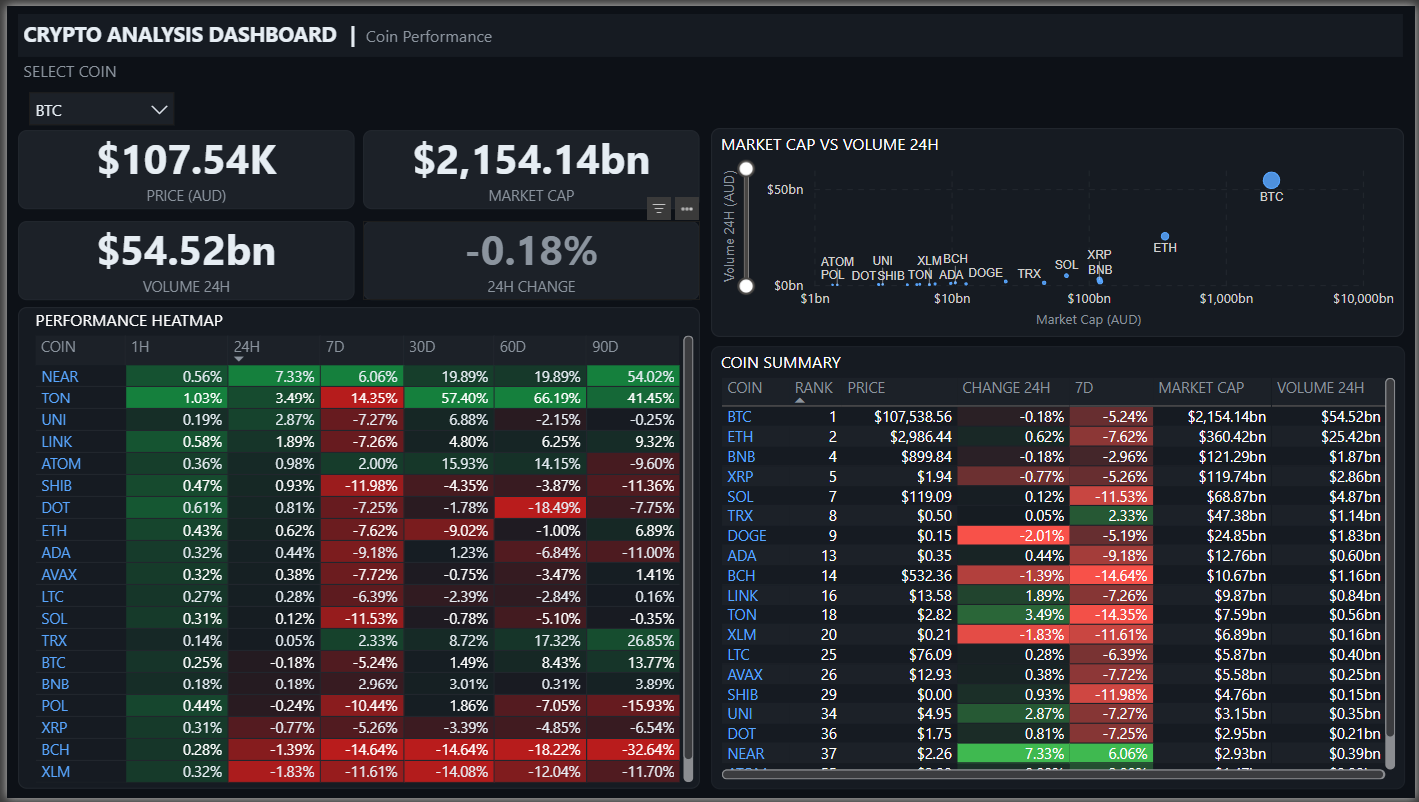

Layout of this report page (visuals, bound fields, positions):
{"tool":"powerbi","page":{"name":"Coin Performance","canvas":[1280,720],"ordinal":1},"visuals":[{"type":"slicer","title":"SELECT COIN","fields":{"Values":["dim_coin.symbol"]},"box":[10,46,152,64],"z":0},{"type":"card","fields":{"Values":["_Measures.Latest Price"]},"box":[10,113,306,72],"z":2000},{"type":"card","fields":{"Values":["_Measures.Latest Market Cap"]},"box":[324,113,306,72],"z":3000},{"type":"card","fields":{"Values":["_Measures.Latest Volume 24H"]},"box":[10,195,306,72],"z":4000},{"type":"card","fields":{"Values":["_Measures.Latest 24H Change"]},"box":[324,195,306,72],"z":5000},{"type":"pivotTable","title":"PERFORMANCE HEATMAP","fields":{"Values":["_Measures.Latest 1H Change","_Measures.Latest 24H Change","_Measures.Latest 7D Change","_Measures.Latest 30D Change","_Measures.Latest 60D Change","_Measures.Latest 90D Change"],"Rows":["dim_coin.symbol"]},"box":[10,274,620,438],"z":6000},{"type":"scatterChart","title":"MARKET CAP VS VOLUME 24H","fields":{"X":["_Measures.Latest Market Cap"],"Y":["_Measures.Latest Volume 24H"],"Size":["_Measures.Latest Market Cap"],"Category":["dim_coin.symbol"]},"box":[640,111.3,629.6,189.8],"z":7000},{"type":"tableEx","title":"COIN SUMMARY","fields":{"Values":["dim_coin.symbol","_Measures.Latest Rank","_Measures.Latest Price","_Measures.Latest 24H Change","_Measures.Latest 7D Change","_Measures.Latest Market Cap","_Measures.Latest Volume 24H"]},"box":[640,309,631,403],"z":8000},{"type":"textbox","box":[10,7,1259,39],"z":9000}]}

Visuals, with their boxes in screenshot pixels (x1, y1, x2, y2), scaled from the page's 1280x720 canvas onto the 1419x802 screenshot:
"SELECT COIN" slicer: (11,51,180,123)
card - _Measures.Latest Price: (11,126,350,206)
card - _Measures.Latest Market Cap: (359,126,698,206)
card - _Measures.Latest Volume 24H: (11,217,350,297)
card - _Measures.Latest 24H Change: (359,217,698,297)
"PERFORMANCE HEATMAP" pivotTable: (11,305,698,793)
"MARKET CAP VS VOLUME 24H" scatterChart: (710,124,1407,335)
"COIN SUMMARY" tableEx: (710,344,1409,793)
textbox: (11,8,1407,51)
